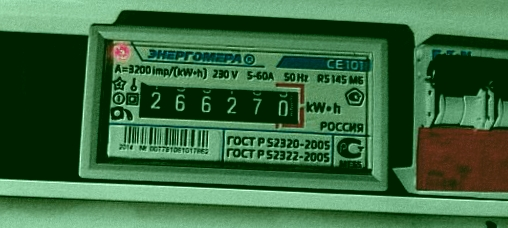0: (275, 98, 289, 118)
2: (148, 90, 162, 111), (225, 95, 238, 116)
6: (199, 94, 213, 114), (173, 92, 186, 113)
7: (251, 96, 261, 116)
screen: (126, 72, 311, 135)
